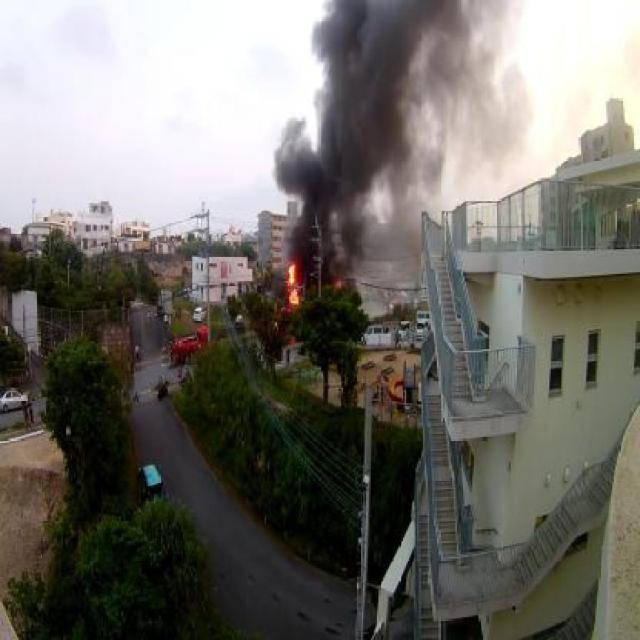Fire: (286, 262, 302, 306)
